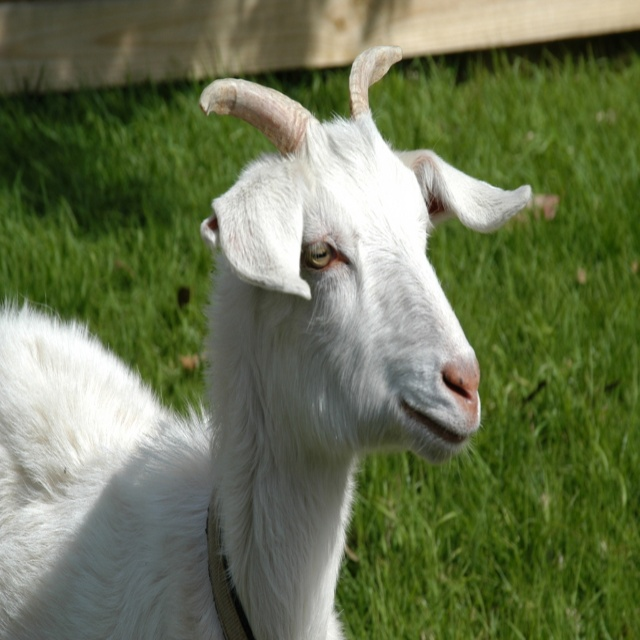Goat: (0, 45, 532, 640)
